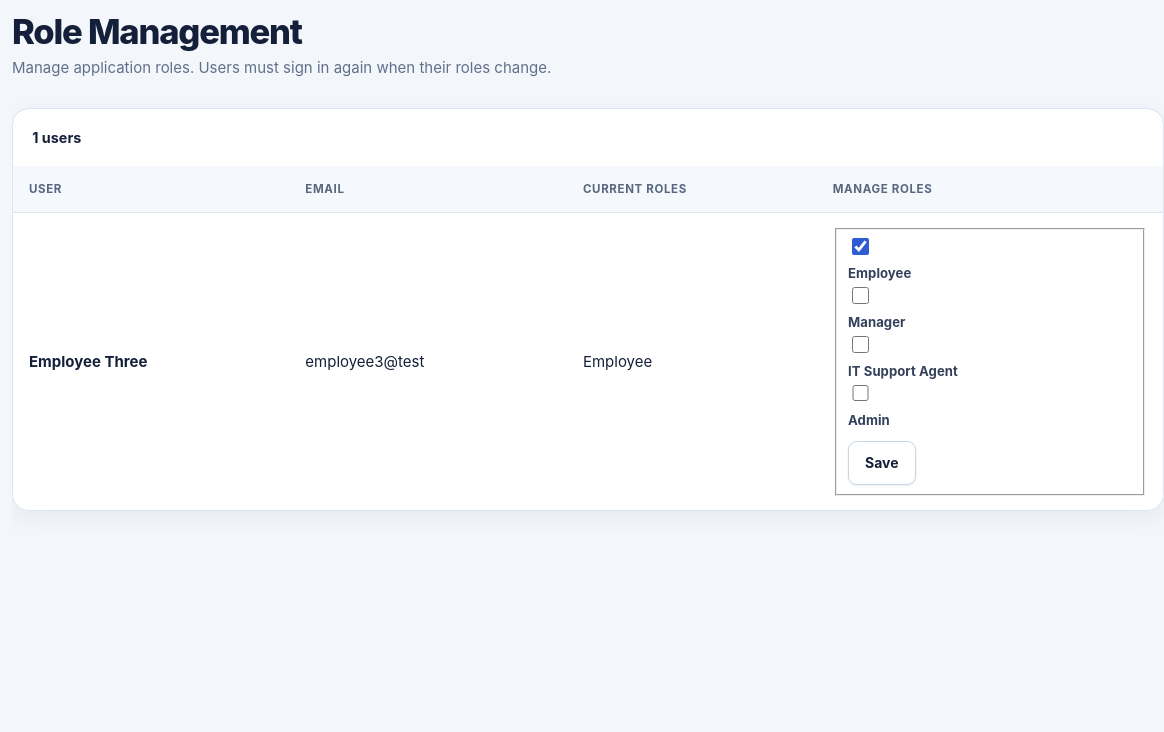
Scenario: Role Management › shows a controlled API error without raw exception details
Expected: the text "employee3@test" is shown, [289,213,567,510]
Click the button "Save". click: (882, 463)
box: [848,441,916,485]
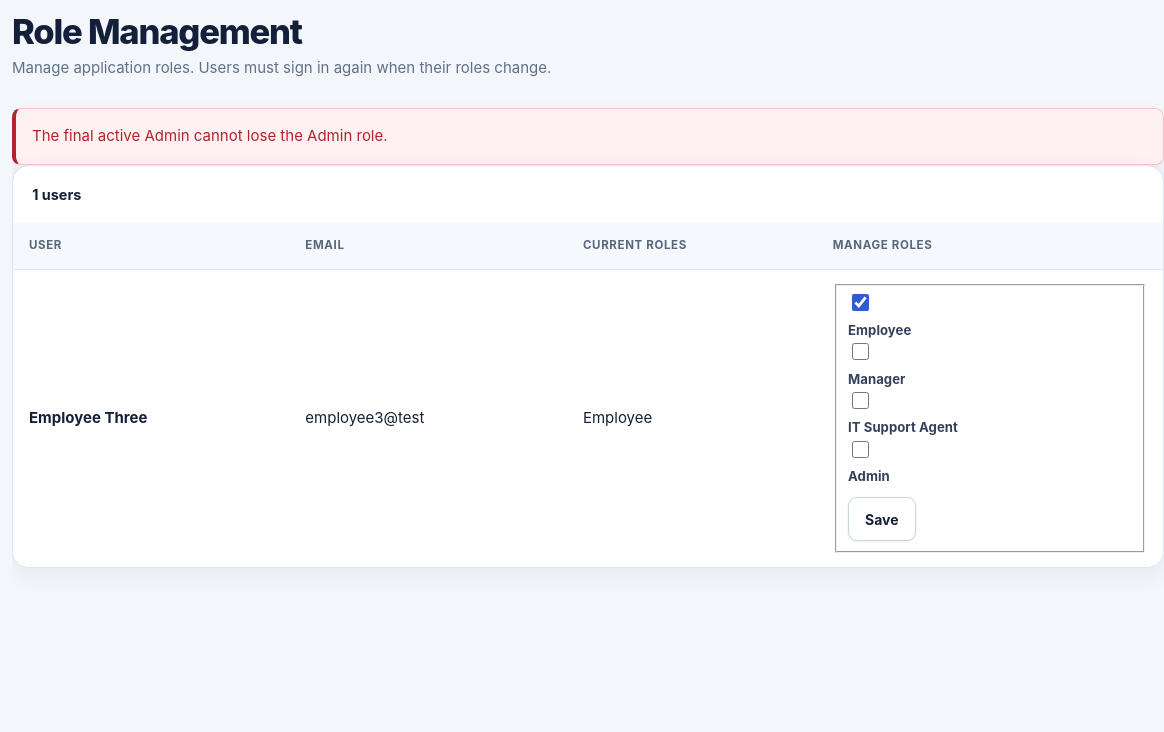
Now the message shows "final active Admin", box [32,126,388,146]
